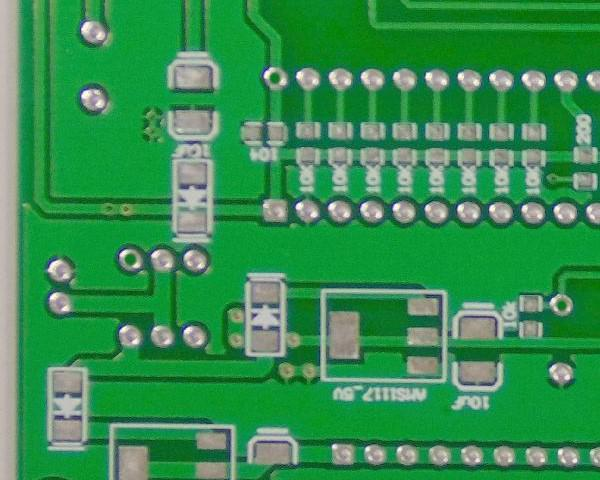missing hole: (259, 62, 294, 97), (116, 244, 148, 275), (547, 288, 577, 320)
